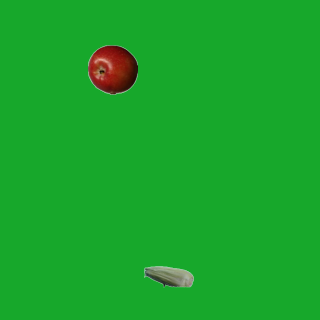Apple Braeburn: (87, 44, 137, 94)
Corn Husk: (143, 251, 193, 301)
